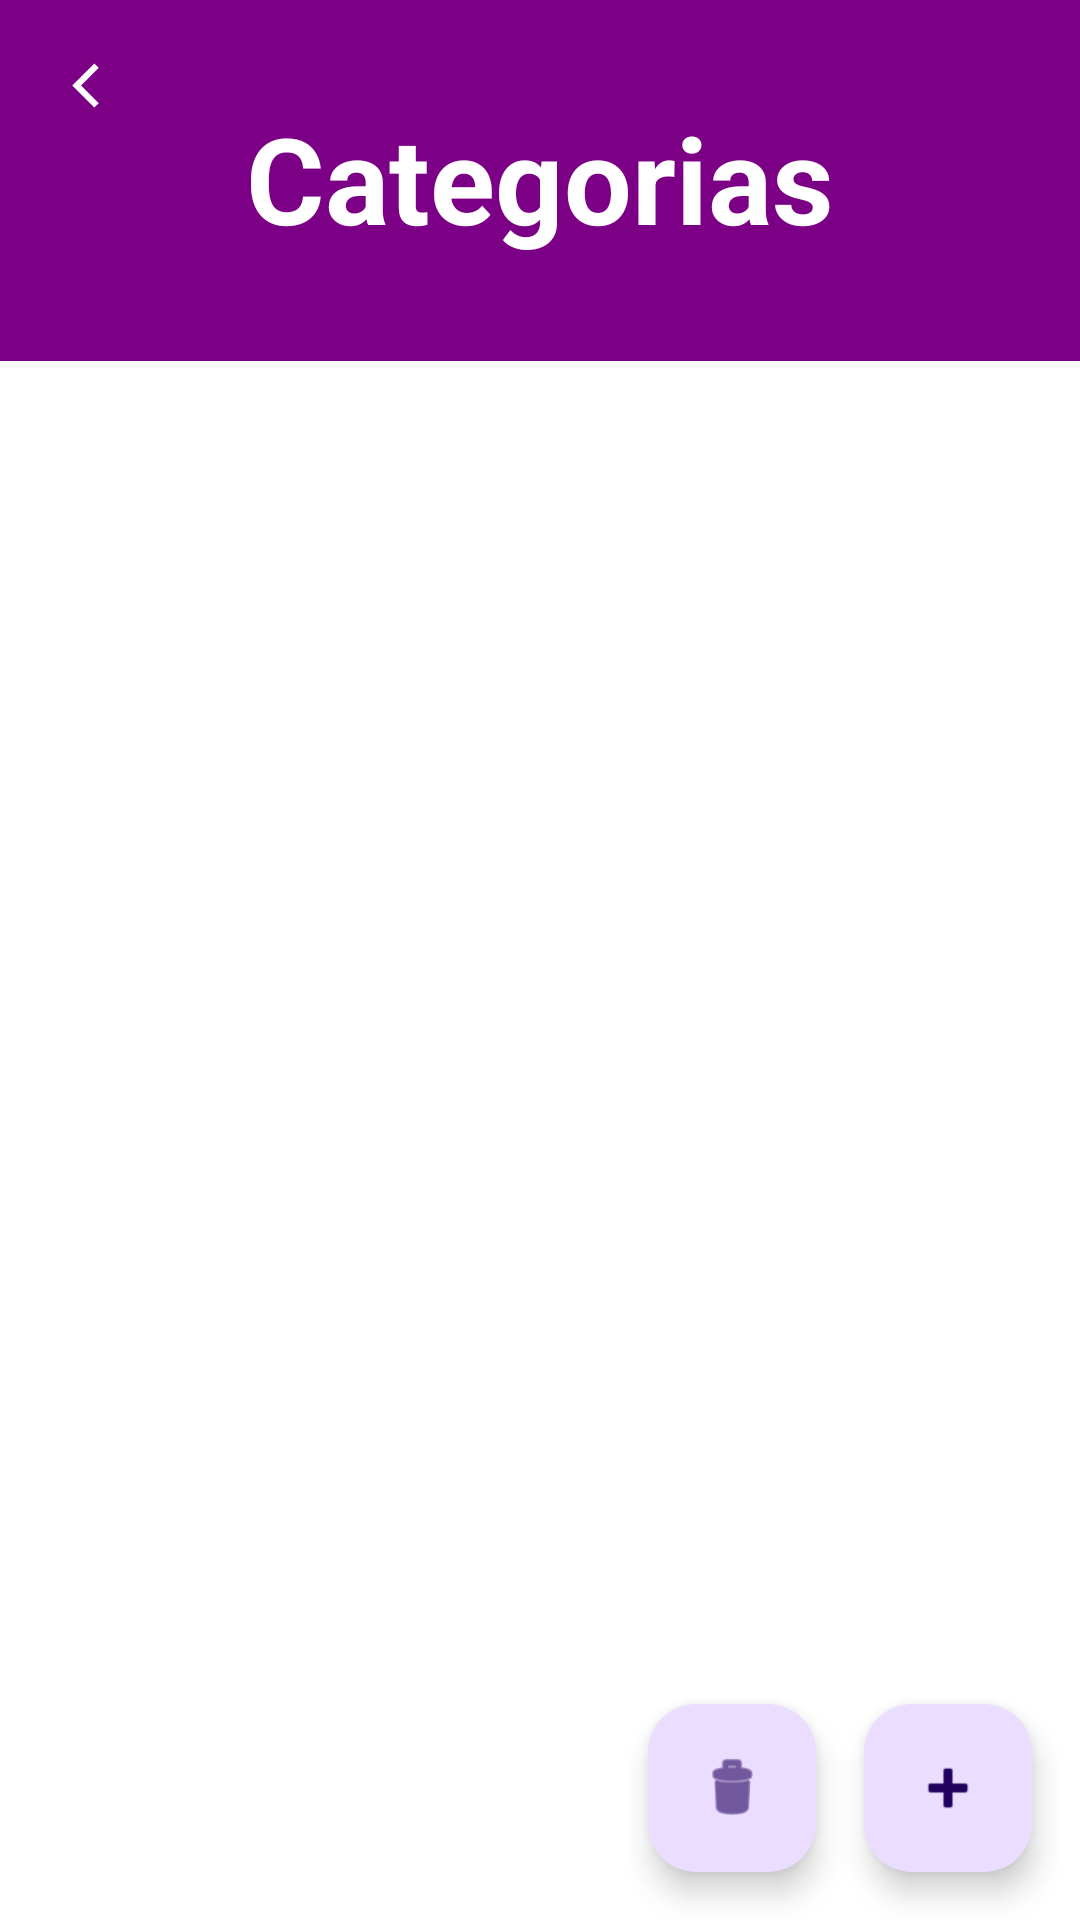

Named icons in this screenshot (1080*1920) and their centers, [x,y]:
Adicionar nova categoria: [948,1788]
left return arrow: [85,85]
Remover categorias: [732,1788]
